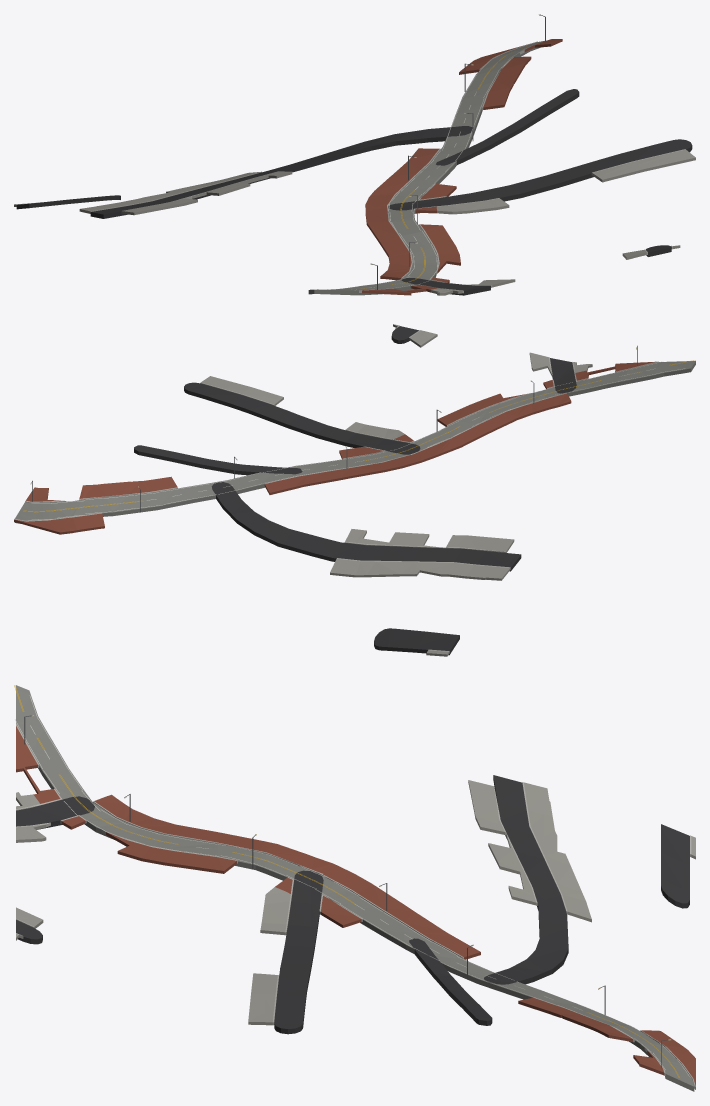
3 renders of one model, top to bottom at view 1: azimuth 30°, elevation 25°; view 2: azimuth 150°, elevation 25°; view 3: azimuth 270°, elevation 25°, orthographic. The views are drawn at different scales.
Bounding box in the file's own units: 147 × 42.17 × 146.
